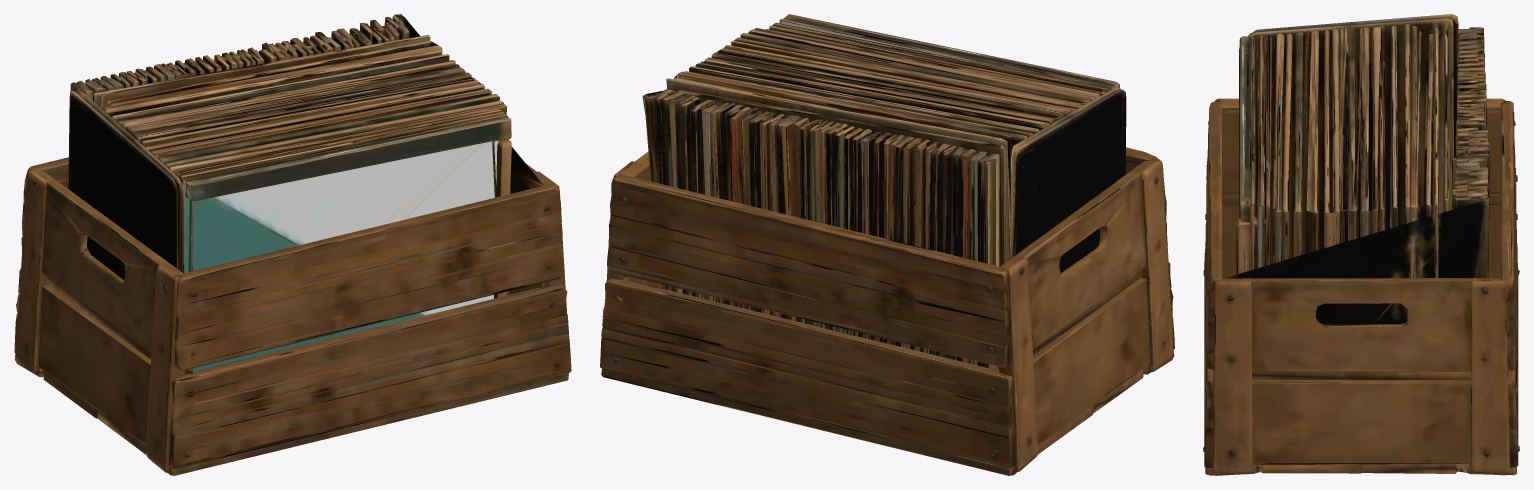
File: mobile.glb
3 views of the same model, side by side, from view 1: azimuth 30°, elevation 25°; view 2: azimuth 150°, elevation 25°; view 3: azimuth 270°, elevation 25° (orthographic). The views are drawn at different scales.
Visible parts, largest first — view 1: recordcrate; view 2: recordcrate; view 3: recordcrate.
Part boxes in pixels (bbox=[...]): recordcrate: bbox=[14, 14, 571, 475]; recordcrate: bbox=[600, 14, 1174, 475]; recordcrate: bbox=[1203, 14, 1519, 475].
Size of the model in its own units: 0.349 by 0.2375 by 0.2402.
Materials: 1 (1 with a texture image).
